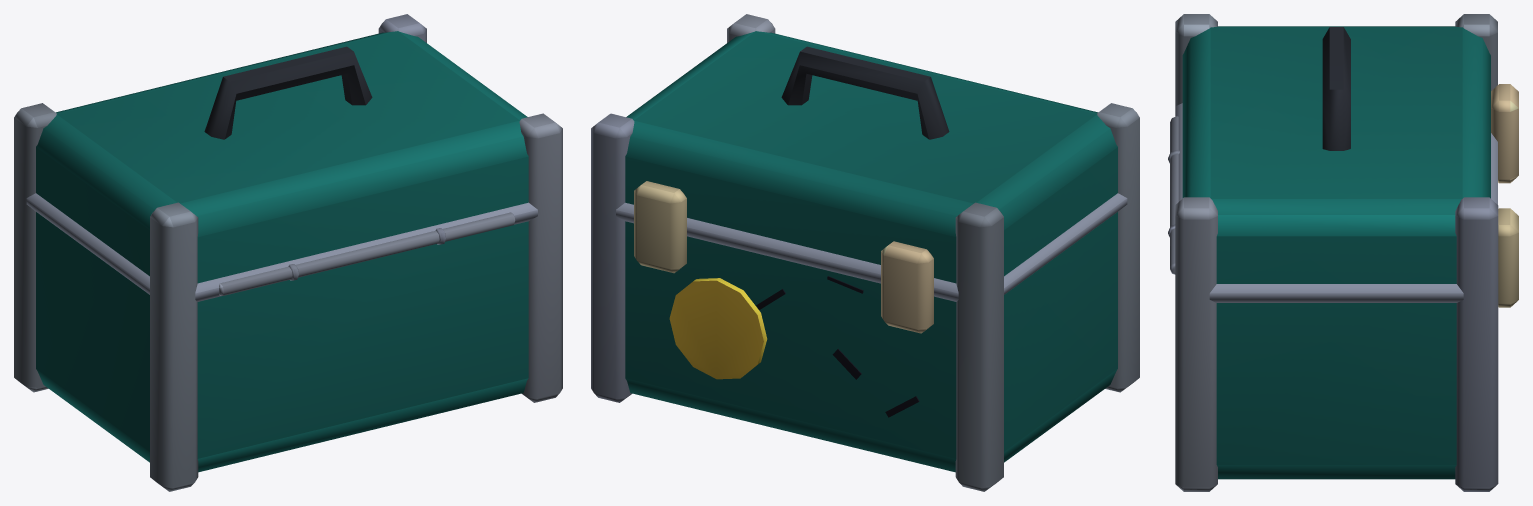
File: SM_Prop_LensCase.fbx
The picture shows the model from 3 angles, left to right: view 1: azimuth 30°, elevation 25°; view 2: azimuth 150°, elevation 25°; view 3: azimuth 270°, elevation 25°; orthographic projection. The views are drawn at different scales.
Parts seen in each view (by area): view 1: SM_Prop_LensCase; view 2: SM_Prop_LensCase; view 3: SM_Prop_LensCase.
Boxes of the visible parts, x1,y1,x2,y2 form: SM_Prop_LensCase: [14, 14, 562, 491]; SM_Prop_LensCase: [591, 14, 1139, 491]; SM_Prop_LensCase: [1168, 14, 1518, 491].
Bounding box in the file's own units: 68.11 × 53.03 × 50.12.
